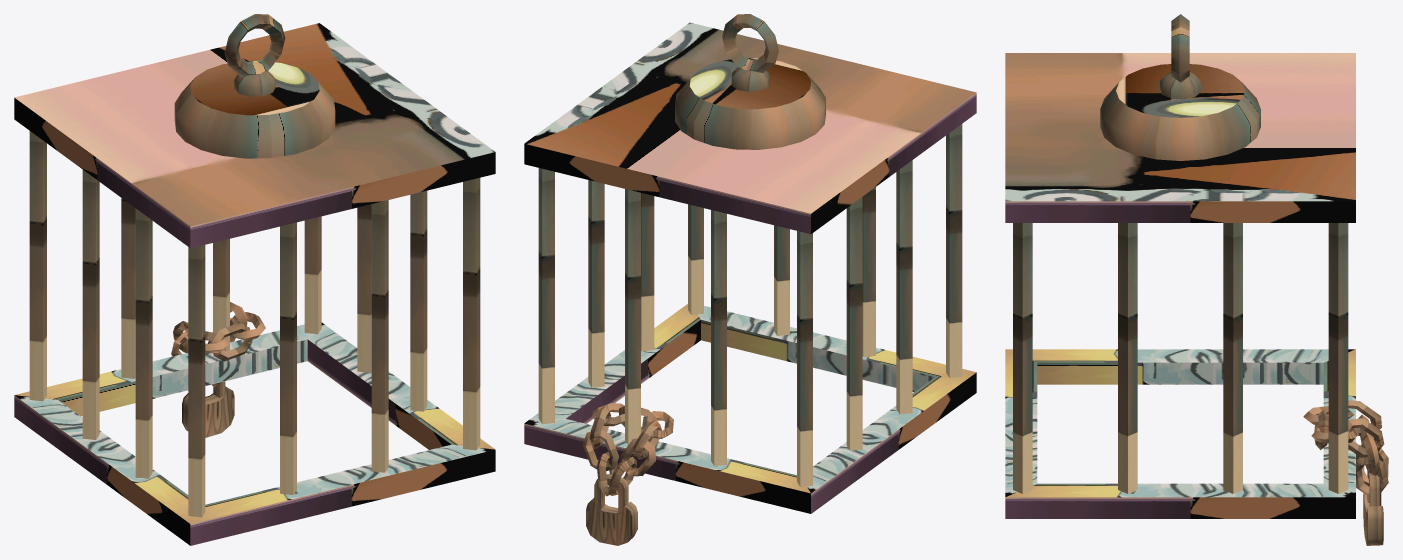
The model's file is cage.FBX.
3 views of the same model, side by side, from view 1: azimuth 30°, elevation 25°; view 2: azimuth 150°, elevation 25°; view 3: azimuth 270°, elevation 25° (orthographic). The views are drawn at different scales.
Visible parts, largest first — view 1: Mesh_0014; view 2: Mesh_0014; view 3: Mesh_0014.
Boxes of the visible parts, box(x1,y1,x2,y2) form: Mesh_0014: box(14, 14, 495, 545); Mesh_0014: box(524, 14, 976, 545); Mesh_0014: box(1005, 14, 1388, 545).
Size of the model in its own units: 200 by 314 by 219.
